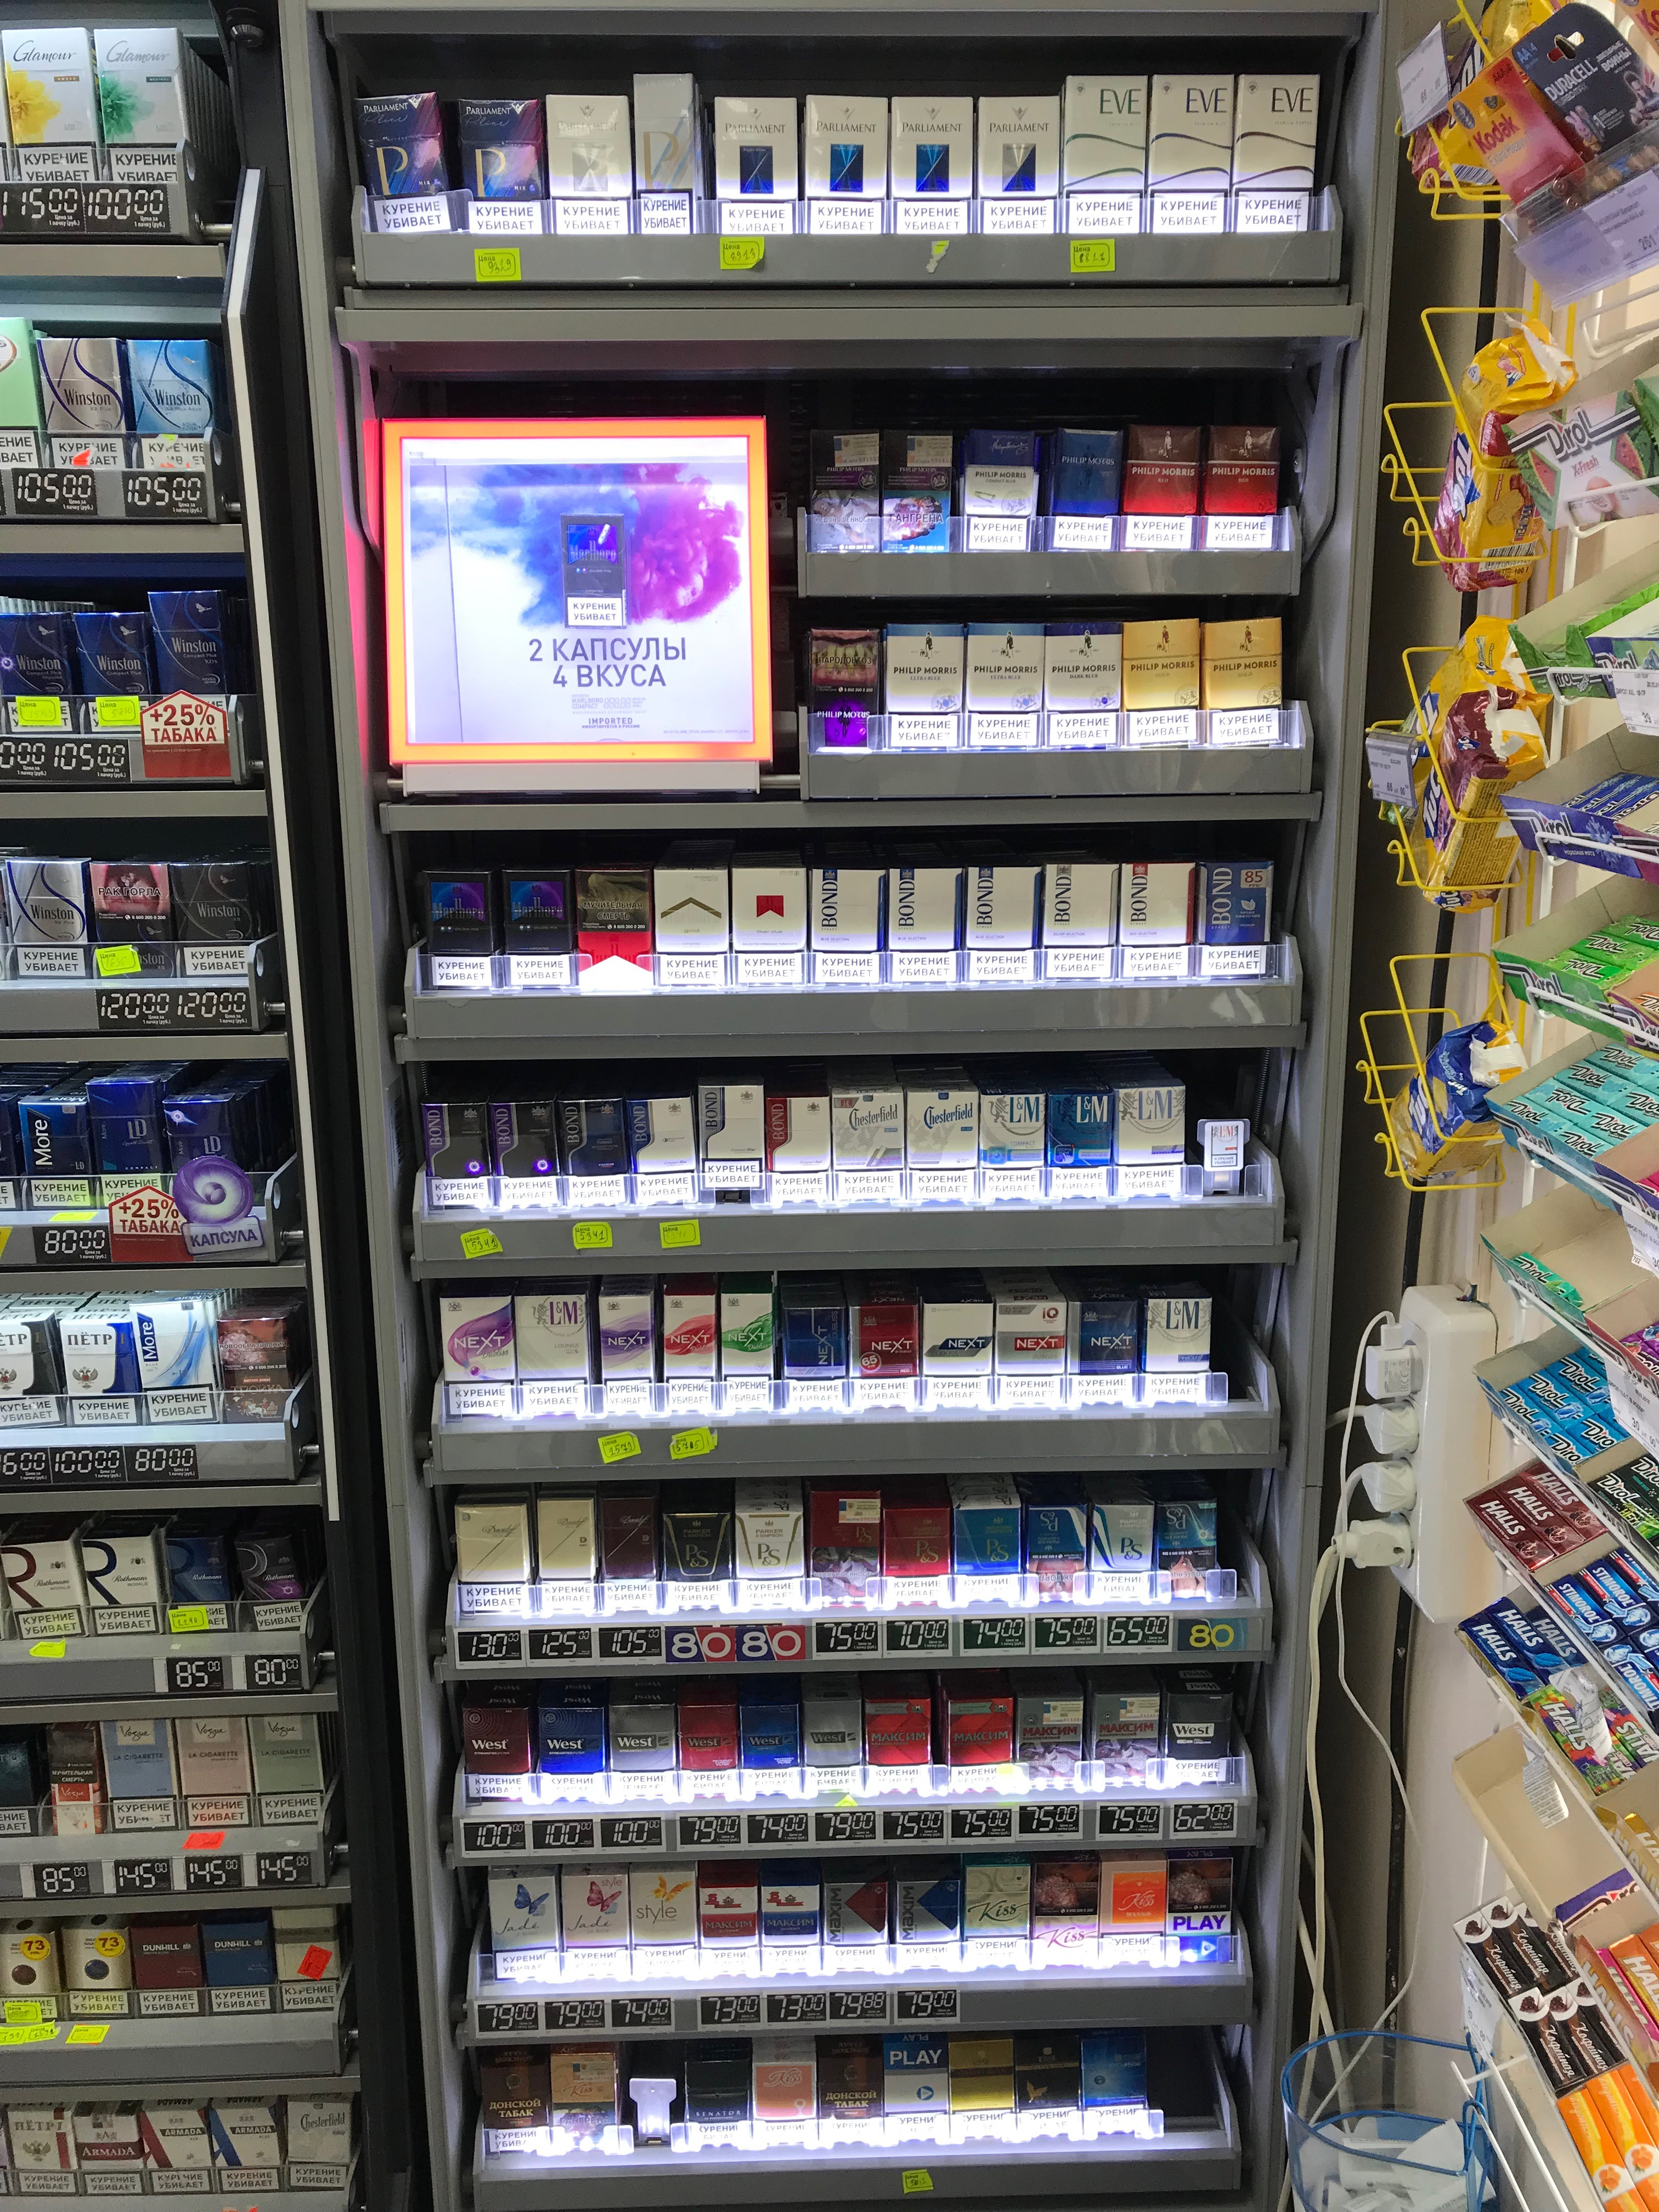armada: (71, 2102, 146, 2198), (213, 2099, 286, 2193), (148, 2099, 214, 2198)
bond: (1121, 862, 1201, 982), (809, 866, 885, 991), (965, 864, 1040, 989), (887, 866, 962, 989), (1046, 862, 1117, 984), (1201, 862, 1272, 981), (490, 1099, 558, 1219), (763, 1096, 833, 1212), (422, 1099, 490, 1214), (624, 1099, 694, 1211), (561, 1101, 627, 1214), (699, 1085, 765, 1193)
chesterfield: (831, 1090, 901, 1211), (908, 1090, 978, 1211), (288, 2094, 352, 2195)
davidoff: (453, 1501, 537, 1627), (533, 1498, 605, 1620), (599, 1494, 657, 1618)
donskoitabak: (1168, 1857, 1236, 1966), (481, 2057, 551, 2158), (819, 2050, 889, 2151)
dunhil: (274, 1907, 342, 2015), (207, 1912, 281, 2012), (134, 1921, 204, 2019)
eve: (1150, 71, 1234, 237), (1065, 71, 1148, 232), (1237, 71, 1316, 232)
glamour: (89, 24, 192, 181), (3, 30, 98, 190)
jade: (559, 1871, 634, 1984), (486, 1874, 556, 1984), (1094, 1695, 1162, 1799), (946, 1698, 1014, 1797), (864, 1702, 932, 1797), (1019, 1696, 1079, 1799)
kiss: (1101, 1855, 1171, 1970), (1030, 1860, 1098, 1975), (965, 1864, 1032, 1977), (551, 2050, 620, 2156), (753, 2055, 821, 2153)
ld: (89, 1080, 164, 1204), (166, 1096, 234, 1202)
lm: (507, 1291, 594, 1420), (1117, 1085, 1190, 1207), (1047, 1089, 1115, 1211), (979, 1090, 1047, 1211), (1145, 1292, 1211, 1409)
marlboro: (572, 866, 659, 995), (500, 866, 579, 993), (728, 867, 807, 991), (652, 869, 732, 989), (423, 869, 498, 986), (563, 512, 633, 631)
maxim: (824, 1869, 892, 1982), (760, 1878, 819, 1982), (901, 1879, 964, 1977), (702, 1883, 763, 1977)
more: (131, 1301, 220, 1423), (23, 1090, 91, 1204)
next: (436, 1298, 516, 1420), (1070, 1298, 1143, 1414), (924, 1301, 999, 1413), (999, 1298, 1068, 1414), (660, 1289, 721, 1420), (596, 1291, 659, 1416), (718, 1289, 777, 1418), (849, 1301, 918, 1409), (781, 1305, 842, 1409)
pack: (1080, 2029, 1148, 2141), (1016, 2031, 1084, 2139), (63, 1923, 134, 2020), (951, 2038, 1014, 2146), (2, 1926, 59, 2020)
parliament: (352, 94, 450, 233), (458, 94, 547, 242), (545, 92, 634, 235), (892, 94, 979, 237), (976, 94, 1065, 233), (803, 92, 890, 233), (634, 70, 708, 233), (716, 94, 800, 232)
petrpervii: (64, 1313, 139, 1430), (2, 1310, 66, 1428), (7, 2104, 75, 2202)
philipmorris: (1206, 617, 1286, 751), (964, 423, 1042, 556), (1044, 618, 1122, 749), (882, 622, 962, 749), (967, 620, 1044, 752), (1127, 418, 1201, 550), (1209, 421, 1283, 554), (810, 627, 884, 754), (1126, 618, 1199, 742), (885, 427, 955, 556), (1053, 421, 1119, 554), (812, 425, 882, 550)
play: (885, 2041, 951, 2146)
ps: (812, 1491, 880, 1615), (884, 1505, 953, 1618), (737, 1510, 807, 1622), (953, 1503, 1023, 1611), (667, 1510, 739, 1613), (1089, 1501, 1155, 1611), (1026, 1503, 1089, 1613), (1161, 1503, 1222, 1613)
rothmans: (84, 1533, 167, 1639), (2, 1540, 85, 1644), (164, 1529, 234, 1637), (234, 1533, 300, 1634)
senator: (680, 2048, 749, 2149)
style: (634, 1871, 702, 1982)
troika: (220, 1313, 293, 1430)
vogue: (176, 1716, 253, 1834), (103, 1717, 179, 1831), (251, 1716, 321, 1827), (45, 1723, 108, 1838)
west: (533, 1700, 608, 1804), (1162, 1689, 1230, 1799), (608, 1705, 680, 1806), (465, 1709, 533, 1808), (678, 1703, 742, 1806), (739, 1707, 805, 1806), (805, 1702, 866, 1804)
winston: (38, 336, 131, 481), (129, 334, 214, 474), (146, 592, 230, 723), (85, 855, 169, 981), (78, 610, 160, 730), (5, 857, 84, 981), (171, 860, 251, 975), (3, 613, 73, 735)
